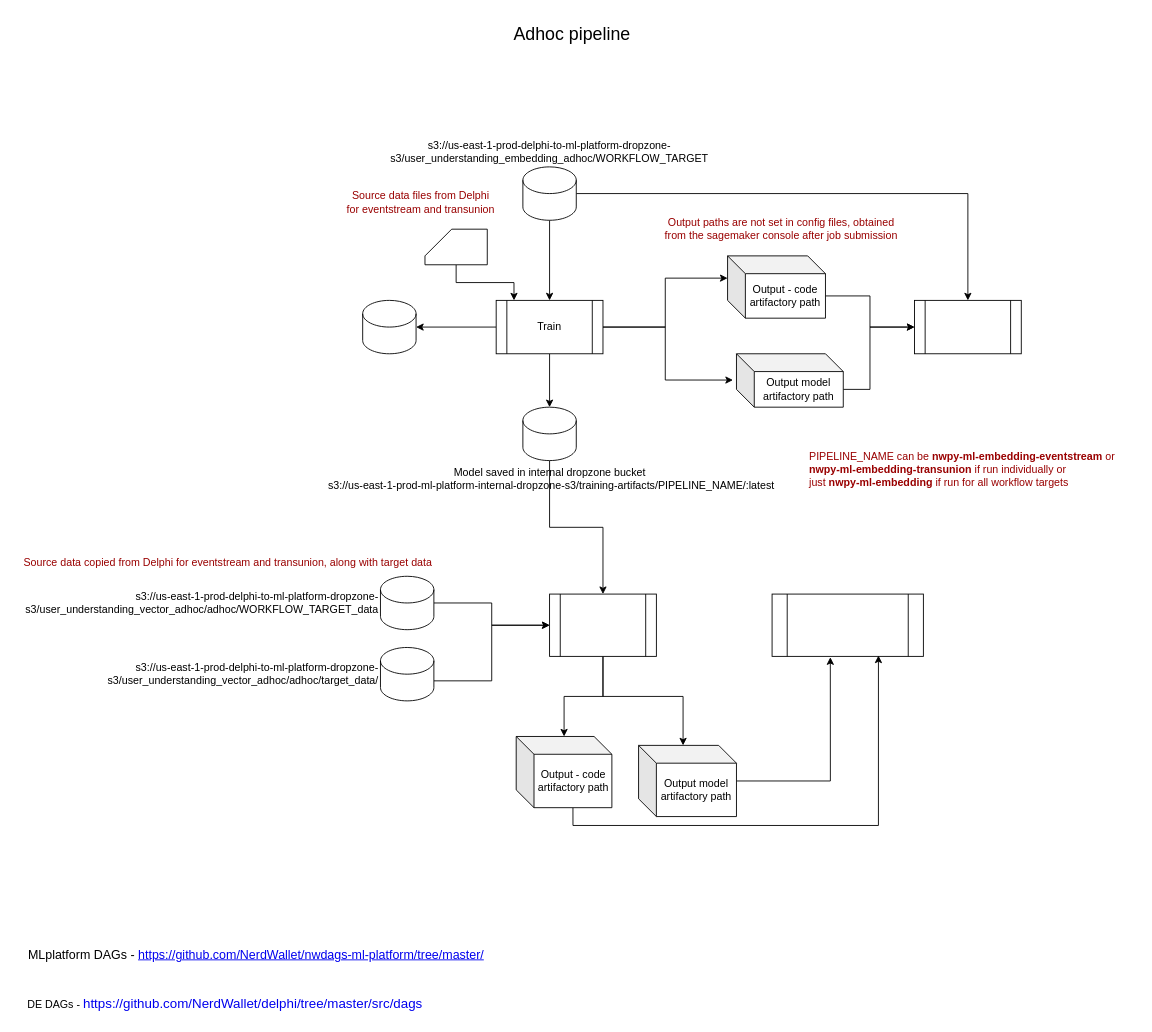
Some shapes in this 1152 by 1032 pixel diagram are drawn without their labels. Here are the shapes that lost their labels. From the top down, the box of each, then its label:
(424, 228, 487, 265): workflow target
(362, 299, 416, 354): Model saved in transit bucket s3://us-east-1-prod-sagemaker-transit-s3/
(914, 299, 1021, 354): Batch-predict
(549, 593, 656, 656): Train secondary models
(771, 593, 923, 656): Batch-predict Generate prospective and propensity scores
